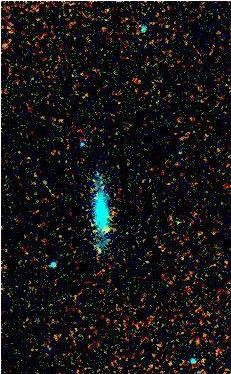star: (94, 219, 124, 249)
